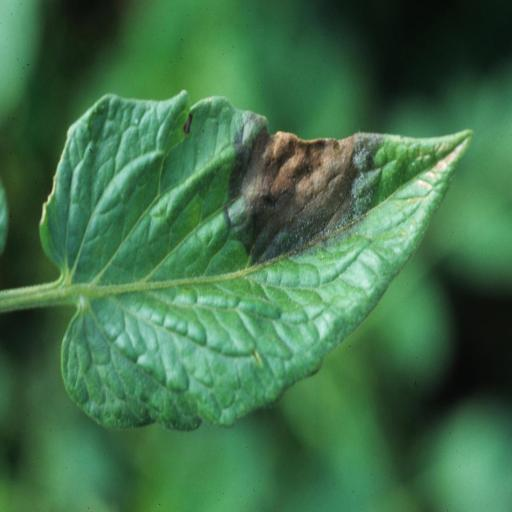Late Blight: (39, 90, 475, 434)
